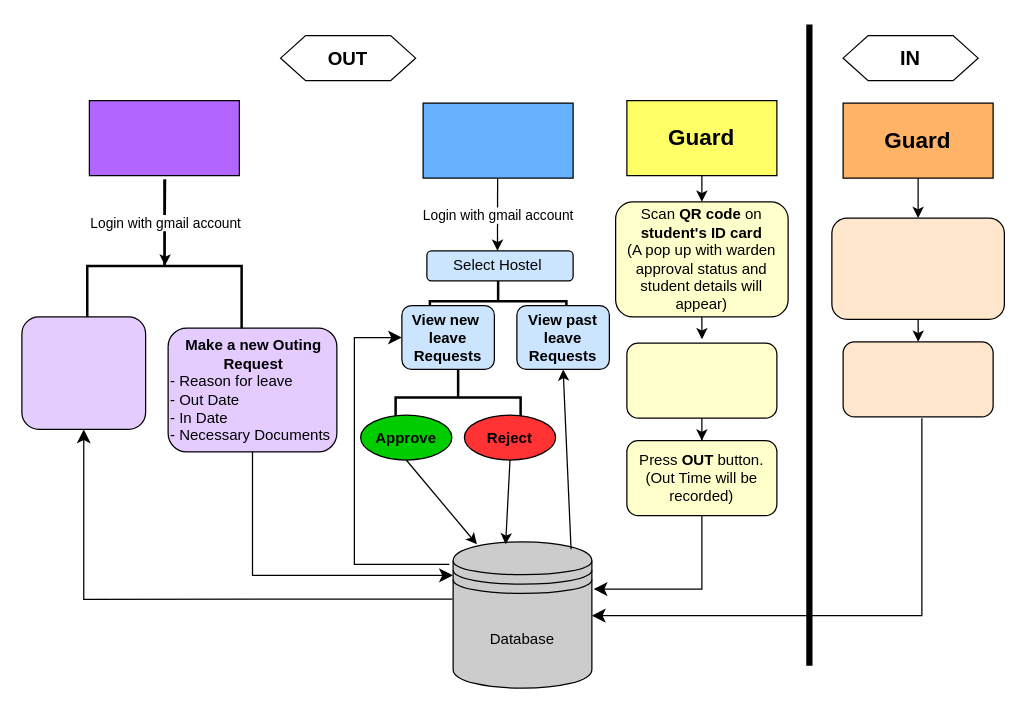
This 1026x710 diagram has some shape labels left out. The centre of each missing label's shape, as x and y in pixels:
Press IN button. (In Time will be recorded): point 917,379
Scan QR code on student's ID card (A pop up with student details will appear): point 917,268
Student: point 163,137
Verify student details and warden approval: point 701,380
View outing request history, warden approval status and remarks.: point 83,372
Warden: point 497,140
